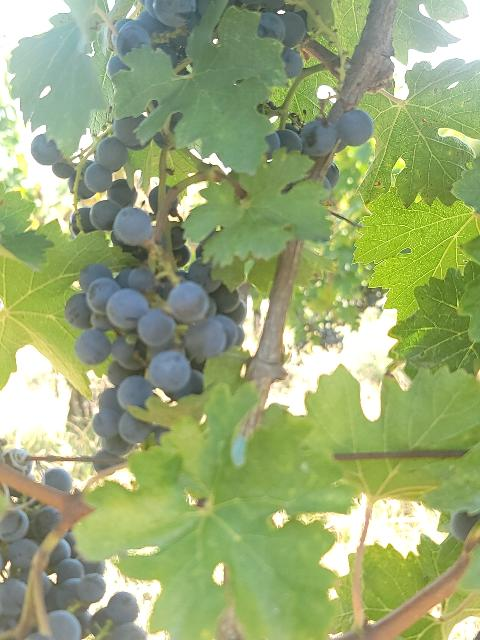grapes: (65, 264, 244, 456), (24, 539, 146, 640), (0, 518, 40, 631)
